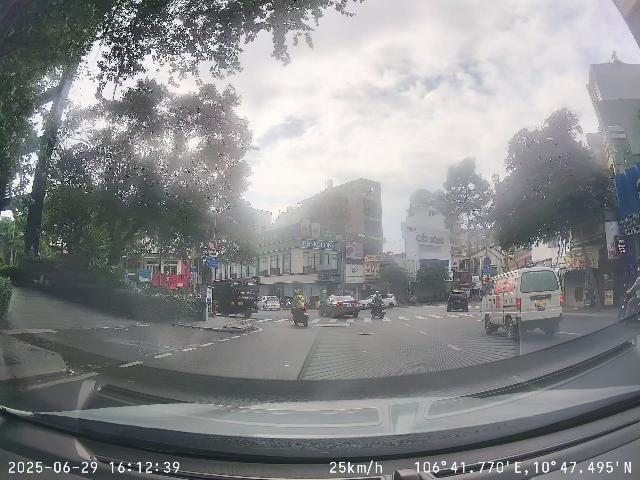123a-cam-re-trai: (208, 238, 219, 250)
